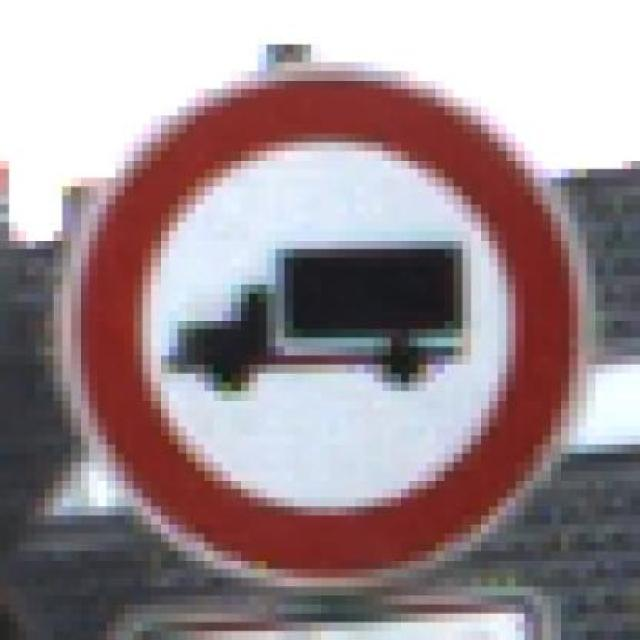Truck traffic is prohibited: (53, 45, 604, 604)
